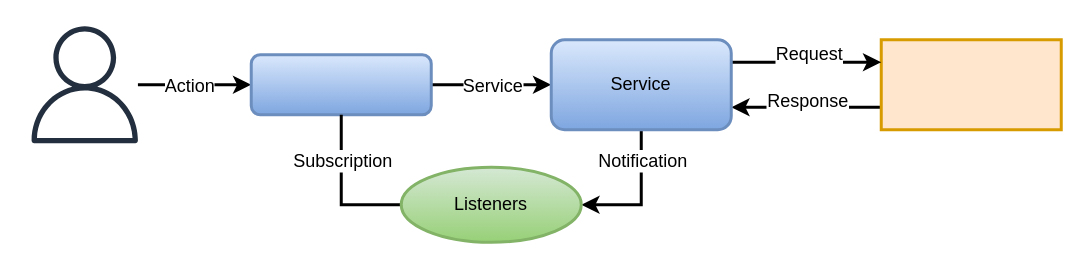
This 1088x269 diagram has some shape labels left out. The shapes that lost their labels are listed below. From the top down, each one's centre as x and y in pixels, then its label:
At pixel 340 84: "View".
At pixel 970 84: "Server".
